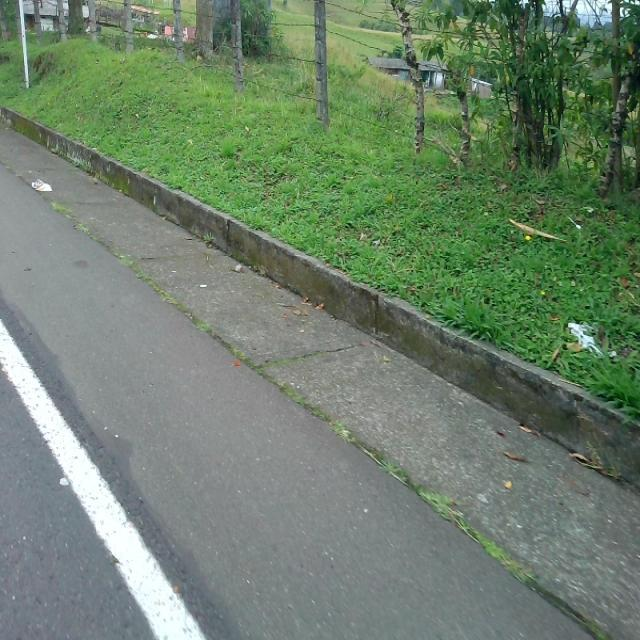DITCH: (1, 111, 638, 638), (1, 142, 639, 638)
